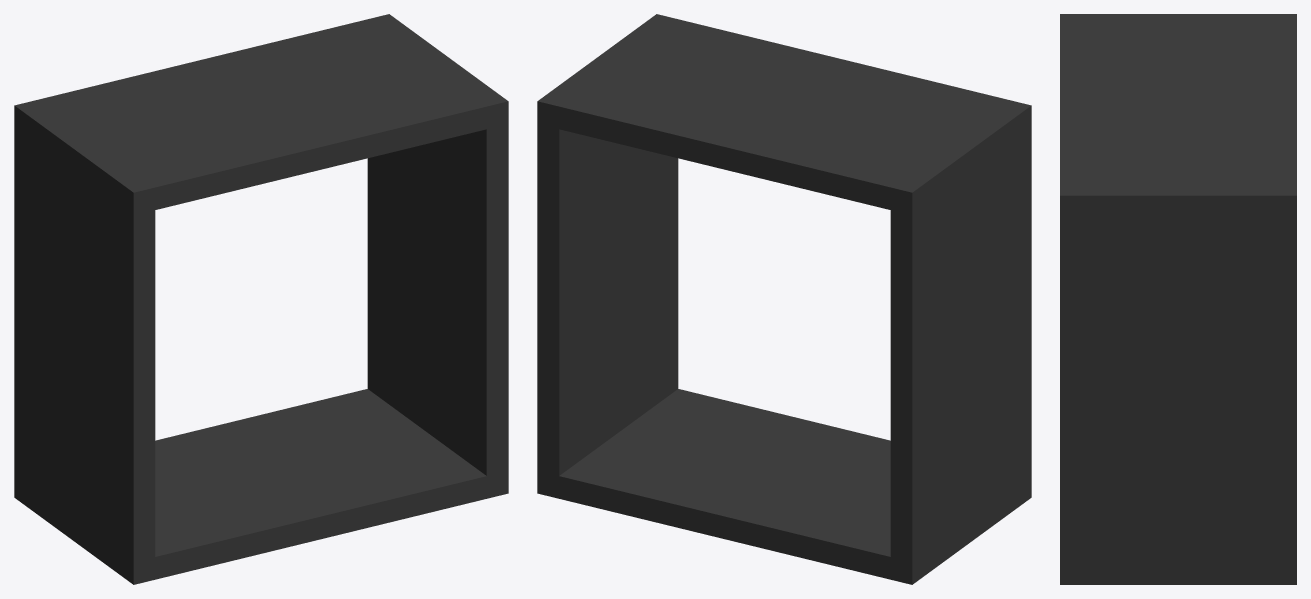
The model's file is Shelf_05.fbx.
3 views of the same model, side by side, from view 1: azimuth 30°, elevation 25°; view 2: azimuth 150°, elevation 25°; view 3: azimuth 270°, elevation 25° (orthographic).
Parts seen in each view (by area): view 1: Shelf_05; view 2: Shelf_05; view 3: Shelf_05.
Boxes of the visible parts, left/top/right/bottom form: Shelf_05: left=14, top=14, right=508, bottom=584; Shelf_05: left=537, top=14, right=1031, bottom=584; Shelf_05: left=1060, top=14, right=1296, bottom=584.
Size of the model in its own units: 27.22 by 27.22 by 15.
